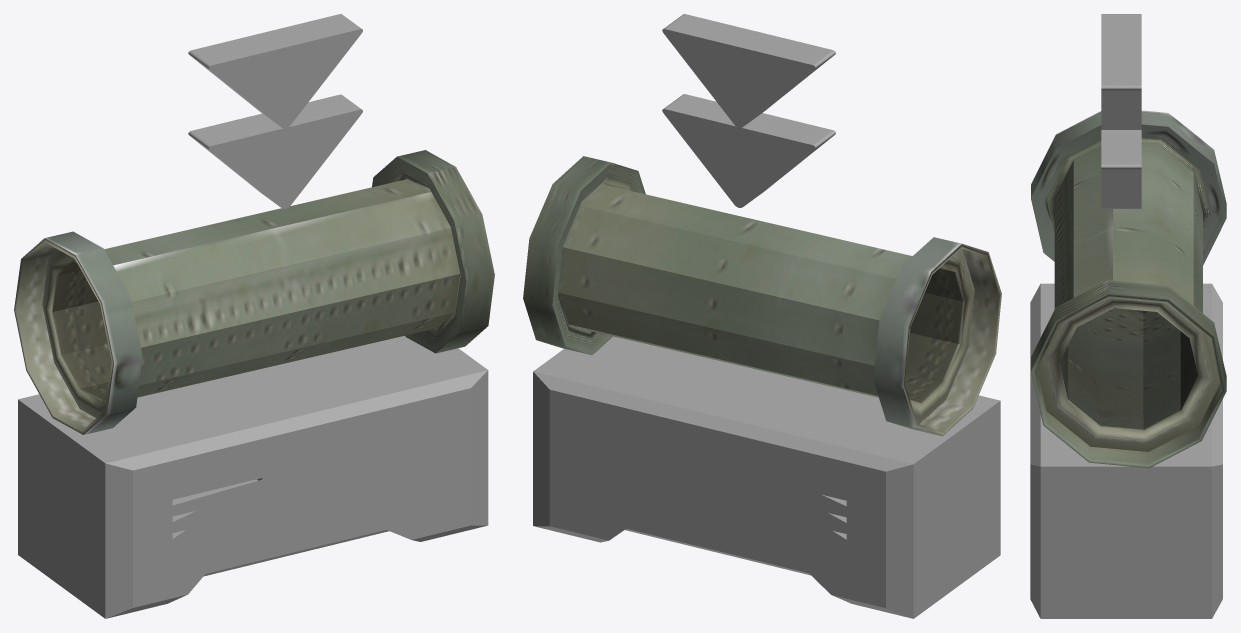
The model's file is SlowPipe.fbx.
The picture shows the model from 3 angles, left to right: view 1: azimuth 30°, elevation 25°; view 2: azimuth 150°, elevation 25°; view 3: azimuth 270°, elevation 25°; orthographic projection. The views are drawn at different scales.
Parts seen in each view (by area): view 1: SingleMachine3_nurbsToPoly14, pasted__extrudedSurface7, extrudedSurface9; view 2: SingleMachine3_nurbsToPoly14, pasted__extrudedSurface7, extrudedSurface9; view 3: pasted__extrudedSurface7, SingleMachine3_nurbsToPoly14, extrudedSurface9.
Boxes of the visible parts, x1,y1,x2,y2 form: SingleMachine3_nurbsToPoly14: (18, 336, 488, 618); pasted__extrudedSurface7: (14, 150, 494, 434); extrudedSurface9: (188, 14, 362, 208); SingleMachine3_nurbsToPoly14: (533, 336, 1000, 618); pasted__extrudedSurface7: (523, 156, 1001, 436); extrudedSurface9: (662, 14, 835, 207); pasted__extrudedSurface7: (1031, 110, 1226, 468); SingleMachine3_nurbsToPoly14: (1030, 283, 1222, 618); extrudedSurface9: (1101, 14, 1141, 208).
Bounding box in the file's own units: 1.92 × 2.37 × 0.8648.
Materials: 2 (1 with a texture image).
